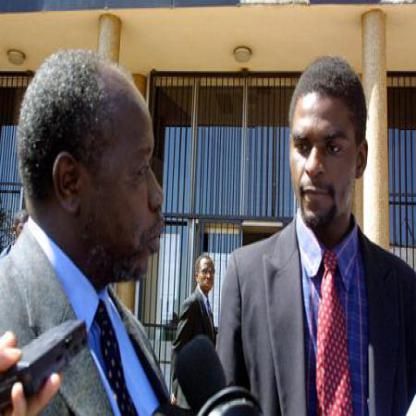face: (74, 56, 184, 283), (287, 55, 361, 229), (196, 258, 217, 293)
